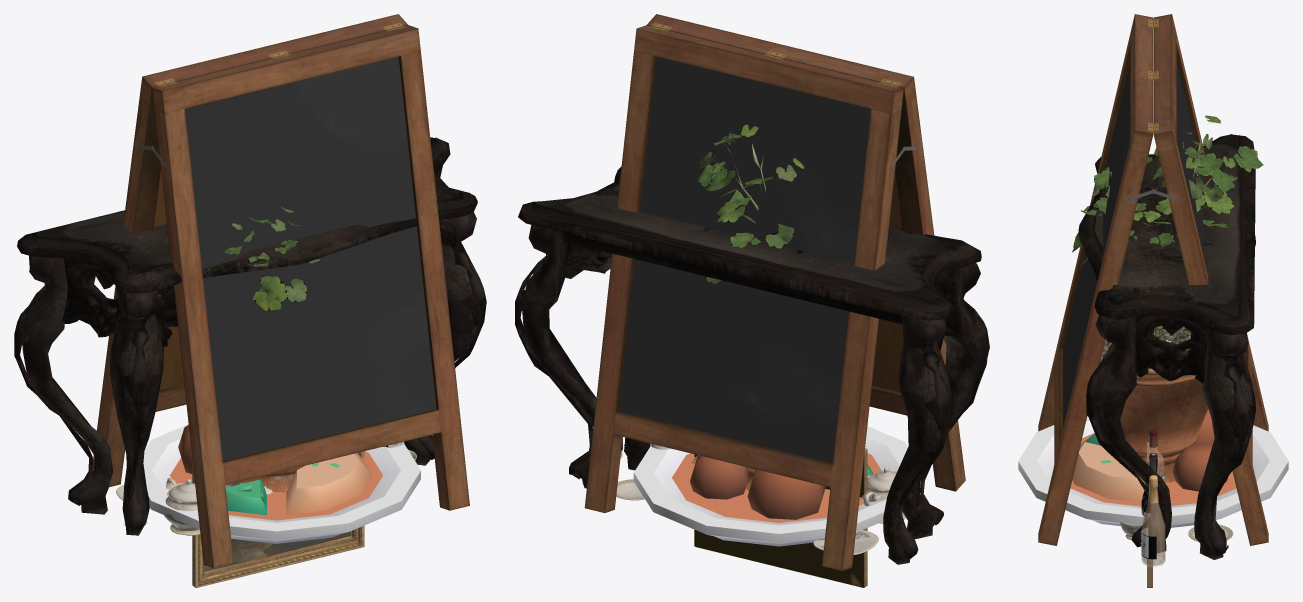
The model's file is restaurant.glb.
3 views of the same model, side by side, from view 1: azimuth 30°, elevation 25°; view 2: azimuth 150°, elevation 25°; view 3: azimuth 270°, elevation 25° (orthographic). The views are drawn at different scales.
Parts seen in each view (by area): view 1: standing_chalkboard_01, ClassicConsole_01, plate-dinner, fancy_picture_frame_01, potted_plant_01_leaves, fancy_picture_frame_01_canvas, tea_set_01_teapot_01, potted_plant_01_pot; view 2: standing_chalkboard_01, ClassicConsole_01, plate-dinner, fancy_picture_frame_01, potted_plant_01_leaves; view 3: ClassicConsole_01, standing_chalkboard_01, plate-dinner, potted_plant_01_pot, potted_plant_01_leaves, wine_bottles_01_champagne, potted_plant_01_pebbles, wine_bottles_01_bordeaux, wine_bottles_01_burgundy.
Part boxes in pixels (box(x1,y1,x2,y2)): standing_chalkboard_01: box(92, 14, 469, 568); ClassicConsole_01: box(14, 137, 486, 535); plate-dinner: box(143, 424, 420, 543); fancy_picture_frame_01: box(192, 451, 364, 587); potted_plant_01_leaves: box(223, 201, 319, 310); fancy_picture_frame_01_canvas: box(204, 481, 350, 571); tea_set_01_teapot_01: box(164, 477, 200, 535); potted_plant_01_pot: box(242, 466, 303, 492); standing_chalkboard_01: box(584, 14, 965, 570); ClassicConsole_01: box(515, 166, 989, 564); plate-dinner: box(633, 426, 920, 546); fancy_picture_frame_01: box(694, 448, 867, 587); potted_plant_01_leaves: box(697, 124, 804, 283); ClassicConsole_01: box(1078, 134, 1255, 559); standing_chalkboard_01: box(1038, 14, 1268, 545); plate-dinner: box(1018, 408, 1288, 527); potted_plant_01_pot: box(1099, 356, 1207, 482); potted_plant_01_leaves: box(1072, 115, 1263, 329); wine_bottles_01_champagne: box(1141, 475, 1165, 566); potted_plant_01_pebbles: box(1101, 326, 1191, 356); wine_bottles_01_bordeaux: box(1143, 429, 1164, 480); wine_bottles_01_burgundy: box(1141, 453, 1157, 521).
Bounding box in the file's own units: 1.54 × 1.74 × 0.8918.
22 materials, 16 textured.
